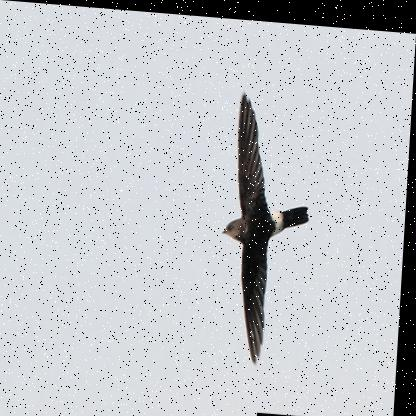Burung: (218, 85, 316, 363)
